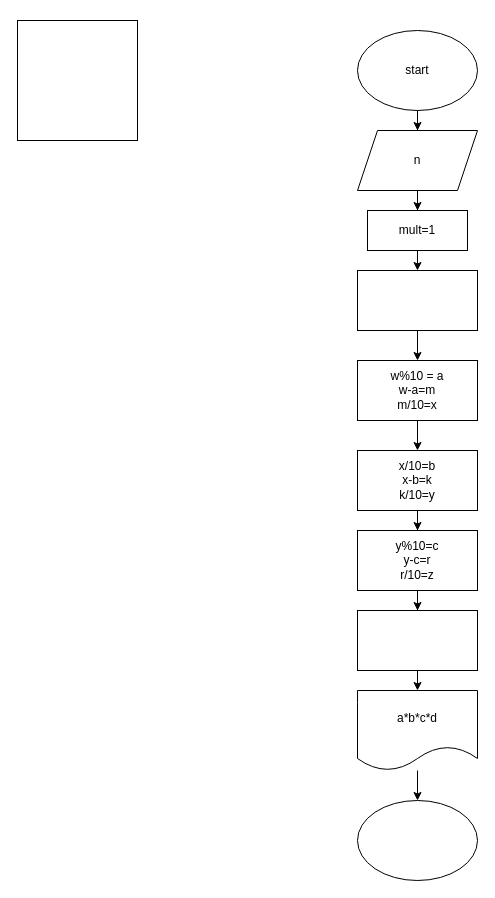
Image size: 495x898. Some labels were removed from this diagram. Here are the shapes that lost their labels. From the top down, the centre of each, then its label:
[77,80]: Verilmiş 4 rəqəmli ədədin rəqəmlərinin hasilini tapan alqoritm
[417,300]: a,b,c,d w,x,y,z m,k,r
[417,640]: z%10=d
